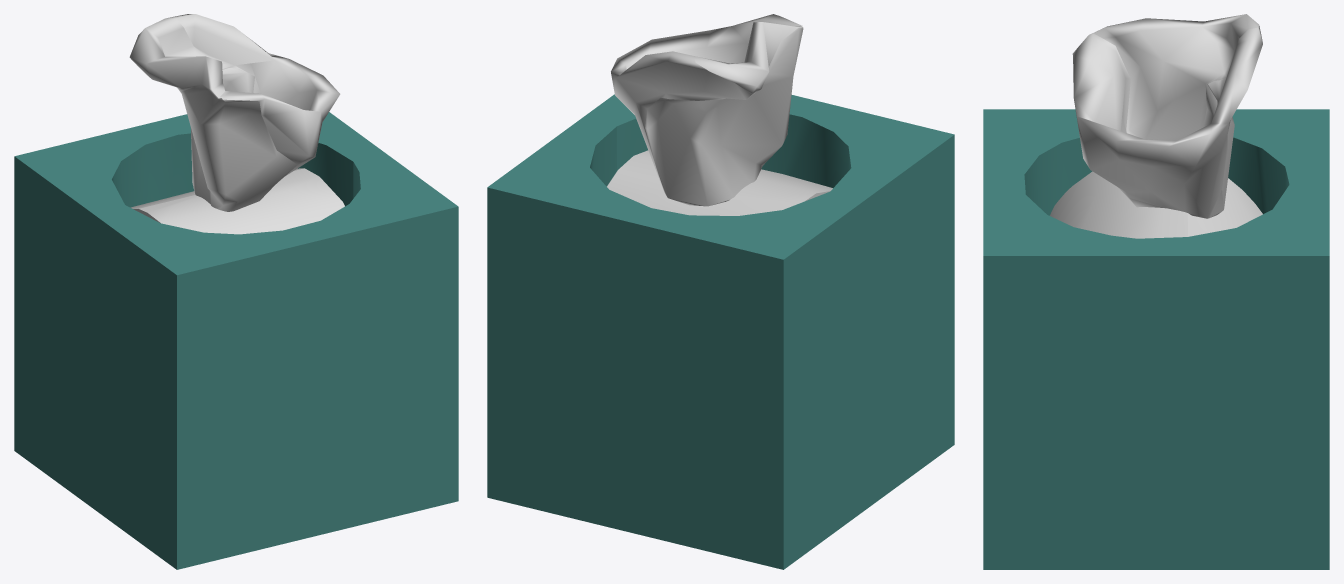
The model's file is TissueBoxSquare.fbx.
The picture shows the model from 3 angles, left to right: view 1: azimuth 30°, elevation 25°; view 2: azimuth 150°, elevation 25°; view 3: azimuth 270°, elevation 25°; orthographic projection. The views are drawn at different scales.
Parts seen in each view (by area): view 1: TissueBoxSquare 1; view 2: TissueBoxSquare 1; view 3: TissueBoxSquare 1.
Boxes of the visible parts, x1,y1,x2,y2 form: TissueBoxSquare 1: (14,14,458,569); TissueBoxSquare 1: (487,14,954,569); TissueBoxSquare 1: (983,14,1329,569).
Size of the model in its own units: 13 by 19.05 by 13.
